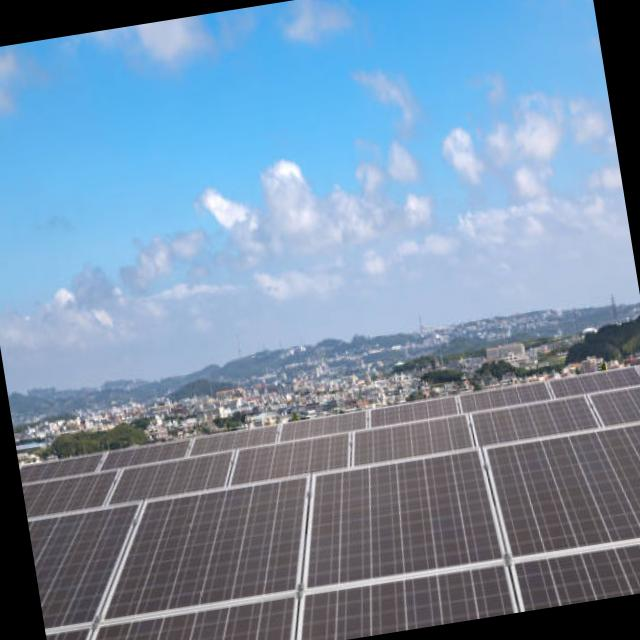faulty: (19, 367, 640, 640)
